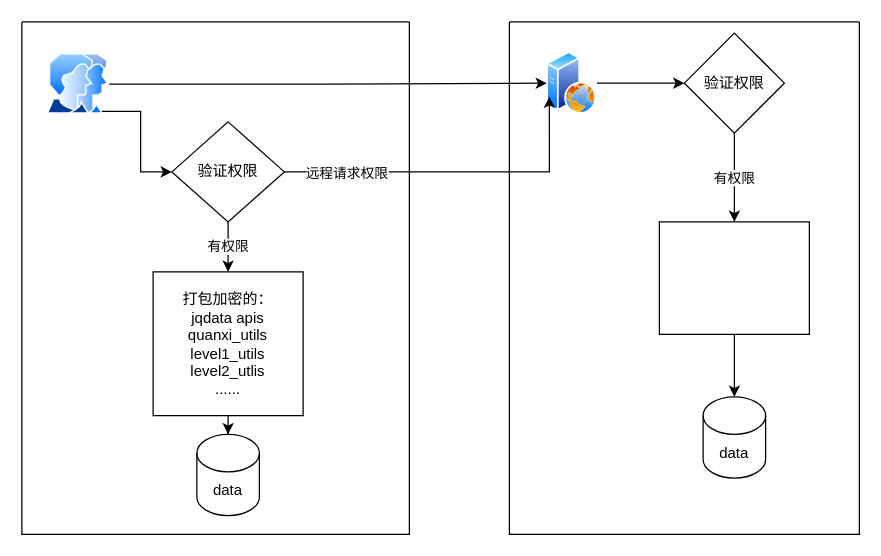
Image size: 881x556. Some labels were removed from this diagram. Each missing label, with the centre of its shape:
"jqdata apis quanxi_utils level1_utils level2_utlis ......" belongs at pixel 733 277.
"Server" belongs at pixel 571 82.
"User" belongs at pixel 77 83.
